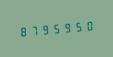eight: (17, 23, 27, 39)
five: (50, 20, 60, 36), (72, 18, 82, 34)
nine: (39, 21, 49, 37), (61, 19, 71, 35)
seven: (28, 22, 38, 38)
zero: (83, 17, 93, 33)
